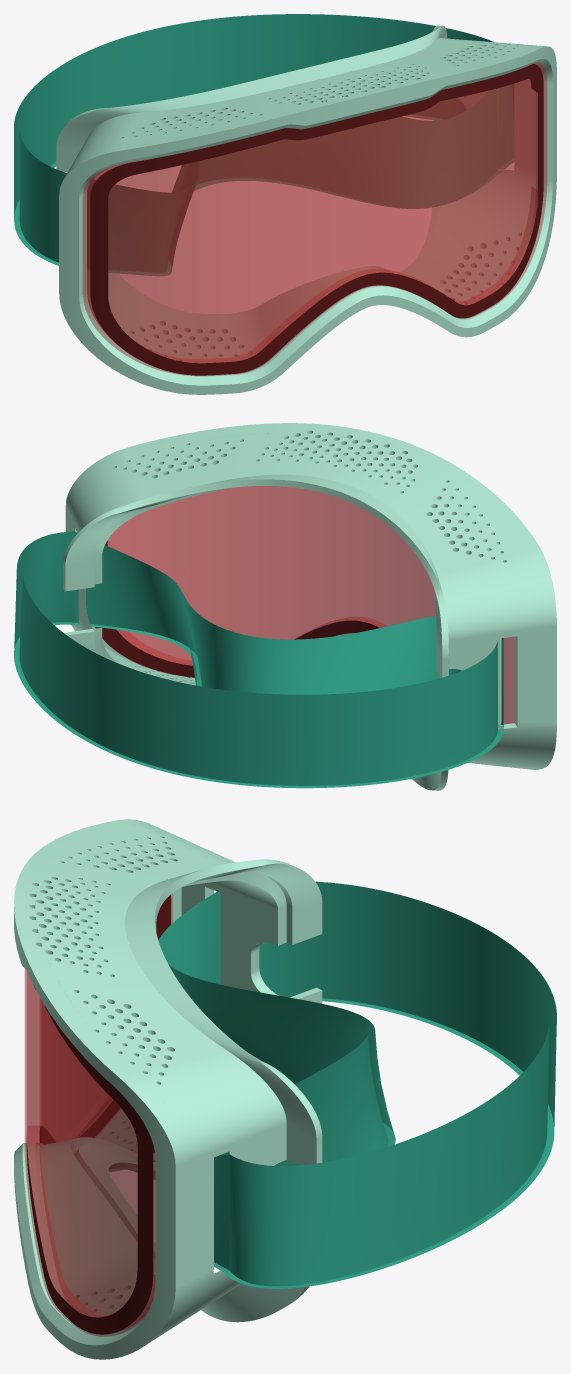
The model's file is Eleonora_Nobili.glb.
3 views of the same model, one above another, from view 1: azimuth 30°, elevation 25°; view 2: azimuth 150°, elevation 25°; view 3: azimuth 270°, elevation 25° (orthographic). The views are drawn at different scales.
Parts seen in each view (by area): view 1: lente, Livello 01, elastico, internoLENT; view 2: elastico, Livello 01, lente, internoLENT; view 3: Livello 01, elastico, lente, internoLENT.
Boxes of the visible parts, <box> form: lente: <box>83,62,546,375</box>; Livello 01: <box>56,25,556,394</box>; elastico: <box>14,14,514,275</box>; internoLENT: <box>90,64,543,375</box>; elastico: <box>14,531,503,788</box>; Livello 01: <box>63,423,556,790</box>; lente: <box>95,486,514,724</box>; internoLENT: <box>95,541,378,677</box>; Livello 01: <box>14,819,322,1359</box>; elastico: <box>158,881,556,1288</box>; lente: <box>25,893,172,1336</box>; internoLENT: <box>26,895,170,1334</box>.
Bounding box in the file's own units: 0.169 × 0.0904 × 0.1271.
